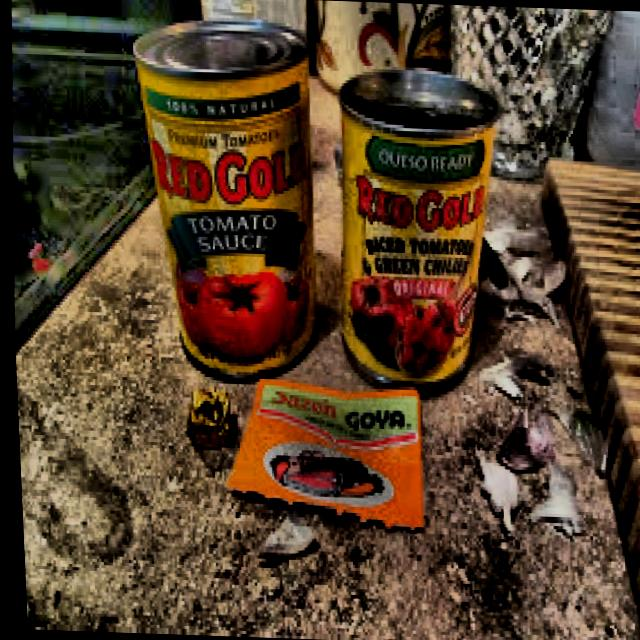Cans: (112, 19, 329, 388), (325, 55, 511, 395)
